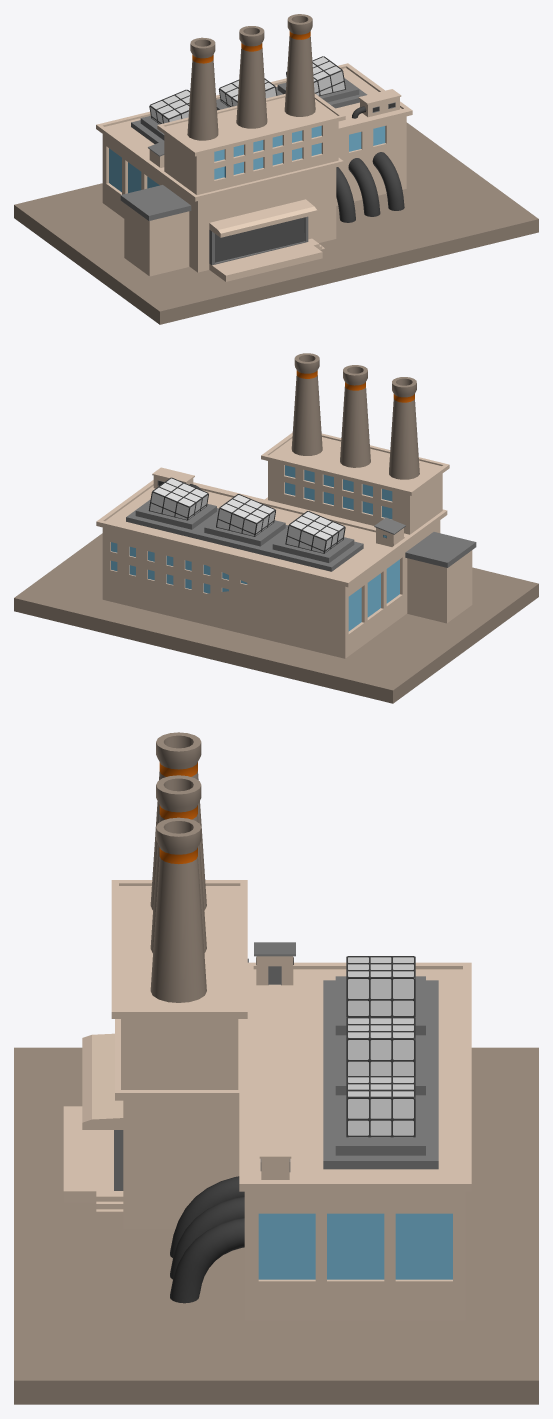
The model's file is Power Plant.fbx.
3 renders of one model, top to bottom at view 1: azimuth 30°, elevation 25°; view 2: azimuth 150°, elevation 25°; view 3: azimuth 270°, elevation 25°, orthographic. The views are drawn at different scales.
Parts seen in each view (by area): view 1: main building.001, base.008, chimney b.001, side builiding, pipe3.001, roof window 1, gray roof, glass frame2, air pomp; view 2: main building.001, base.008, chimney b.001, side builiding, gray roof, roof window 1, glass frame2, exit top flor.001, air pomp; view 3: main building.001, base.008, chimney b.001, gray roof, roof window 1, pipe3.001, glass frame2, exit top flor.001, air pomp.
Boxes of the visible parts, x1=… form: main building.001: x1=96, y1=63, x2=412, y2=281; base.008: x1=14, y1=122, x2=538, y2=324; chimney b.001: x1=187, y1=14, x2=315, y2=140; side builiding: x1=120, y1=185, x2=191, y2=276; pipe3.001: x1=336, y1=152, x2=404, y2=222; roof window 1: x1=150, y1=57, x2=344, y2=124; gray roof: x1=131, y1=78, x2=367, y2=143; glass frame2: x1=149, y1=56, x2=345, y2=124; air pomp: x1=352, y1=89, x2=401, y2=118; main building.001: x1=96, y1=432, x2=449, y2=658; base.008: x1=14, y1=533, x2=538, y2=703; chimney b.001: x1=291, y1=353, x2=419, y2=479; side builiding: x1=405, y1=532, x2=476, y2=623; gray roof: x1=126, y1=499, x2=363, y2=571; roof window 1: x1=150, y1=478, x2=344, y2=552; glass frame2: x1=148, y1=477, x2=345, y2=553; exit top flor.001: x1=374, y1=517, x2=405, y2=546; air pomp: x1=152, y1=467, x2=200, y2=489; main building.001: x1=63, y1=880, x2=471, y2=1320; base.008: x1=14, y1=1047, x2=538, y2=1404; chimney b.001: x1=150, y1=732, x2=206, y2=1002; gray roof: x1=323, y1=976, x2=438, y2=1169; roof window 1: x1=348, y1=957, x2=414, y2=1135; pipe3.001: x1=170, y1=1176, x2=244, y2=1303; glass frame2: x1=346, y1=956, x2=415, y2=1137; exit top flor.001: x1=254, y1=942, x2=295, y2=985; air pomp: x1=259, y1=1127, x2=291, y2=1179.
Bounding box in the file's own units: 836 × 478 × 558.
